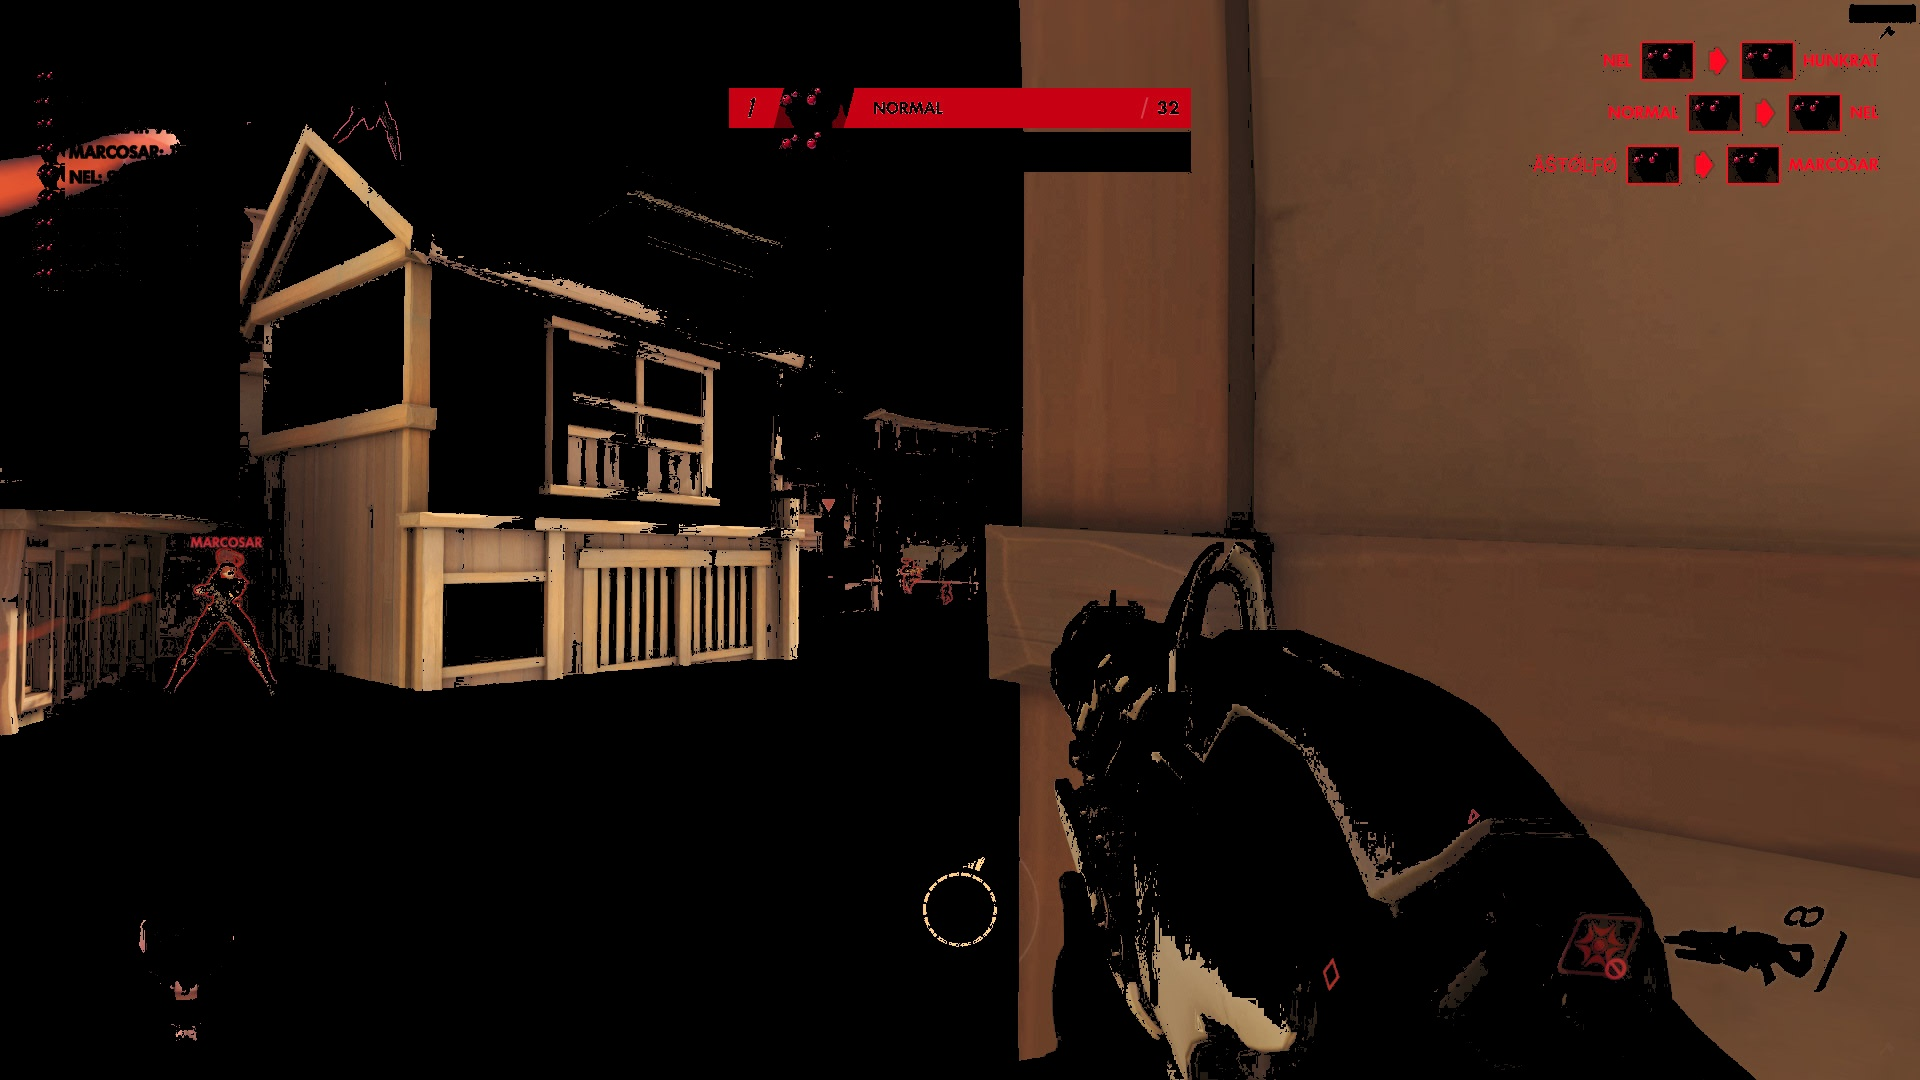widowmaker: (179, 549, 289, 711), (895, 556, 926, 601), (936, 579, 953, 611)
